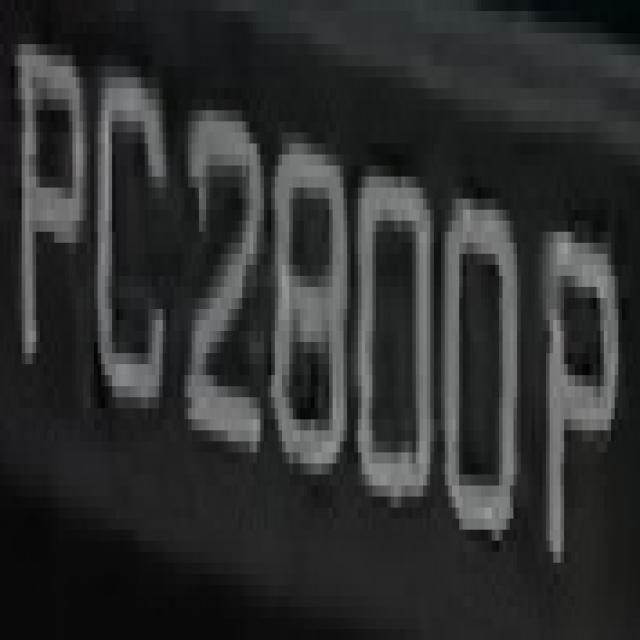0: (354, 154, 438, 552), (438, 177, 520, 562)
2: (174, 66, 264, 475)
8: (268, 110, 362, 508)
C: (87, 56, 177, 442)
P: (535, 177, 626, 629), (15, 33, 83, 397)
